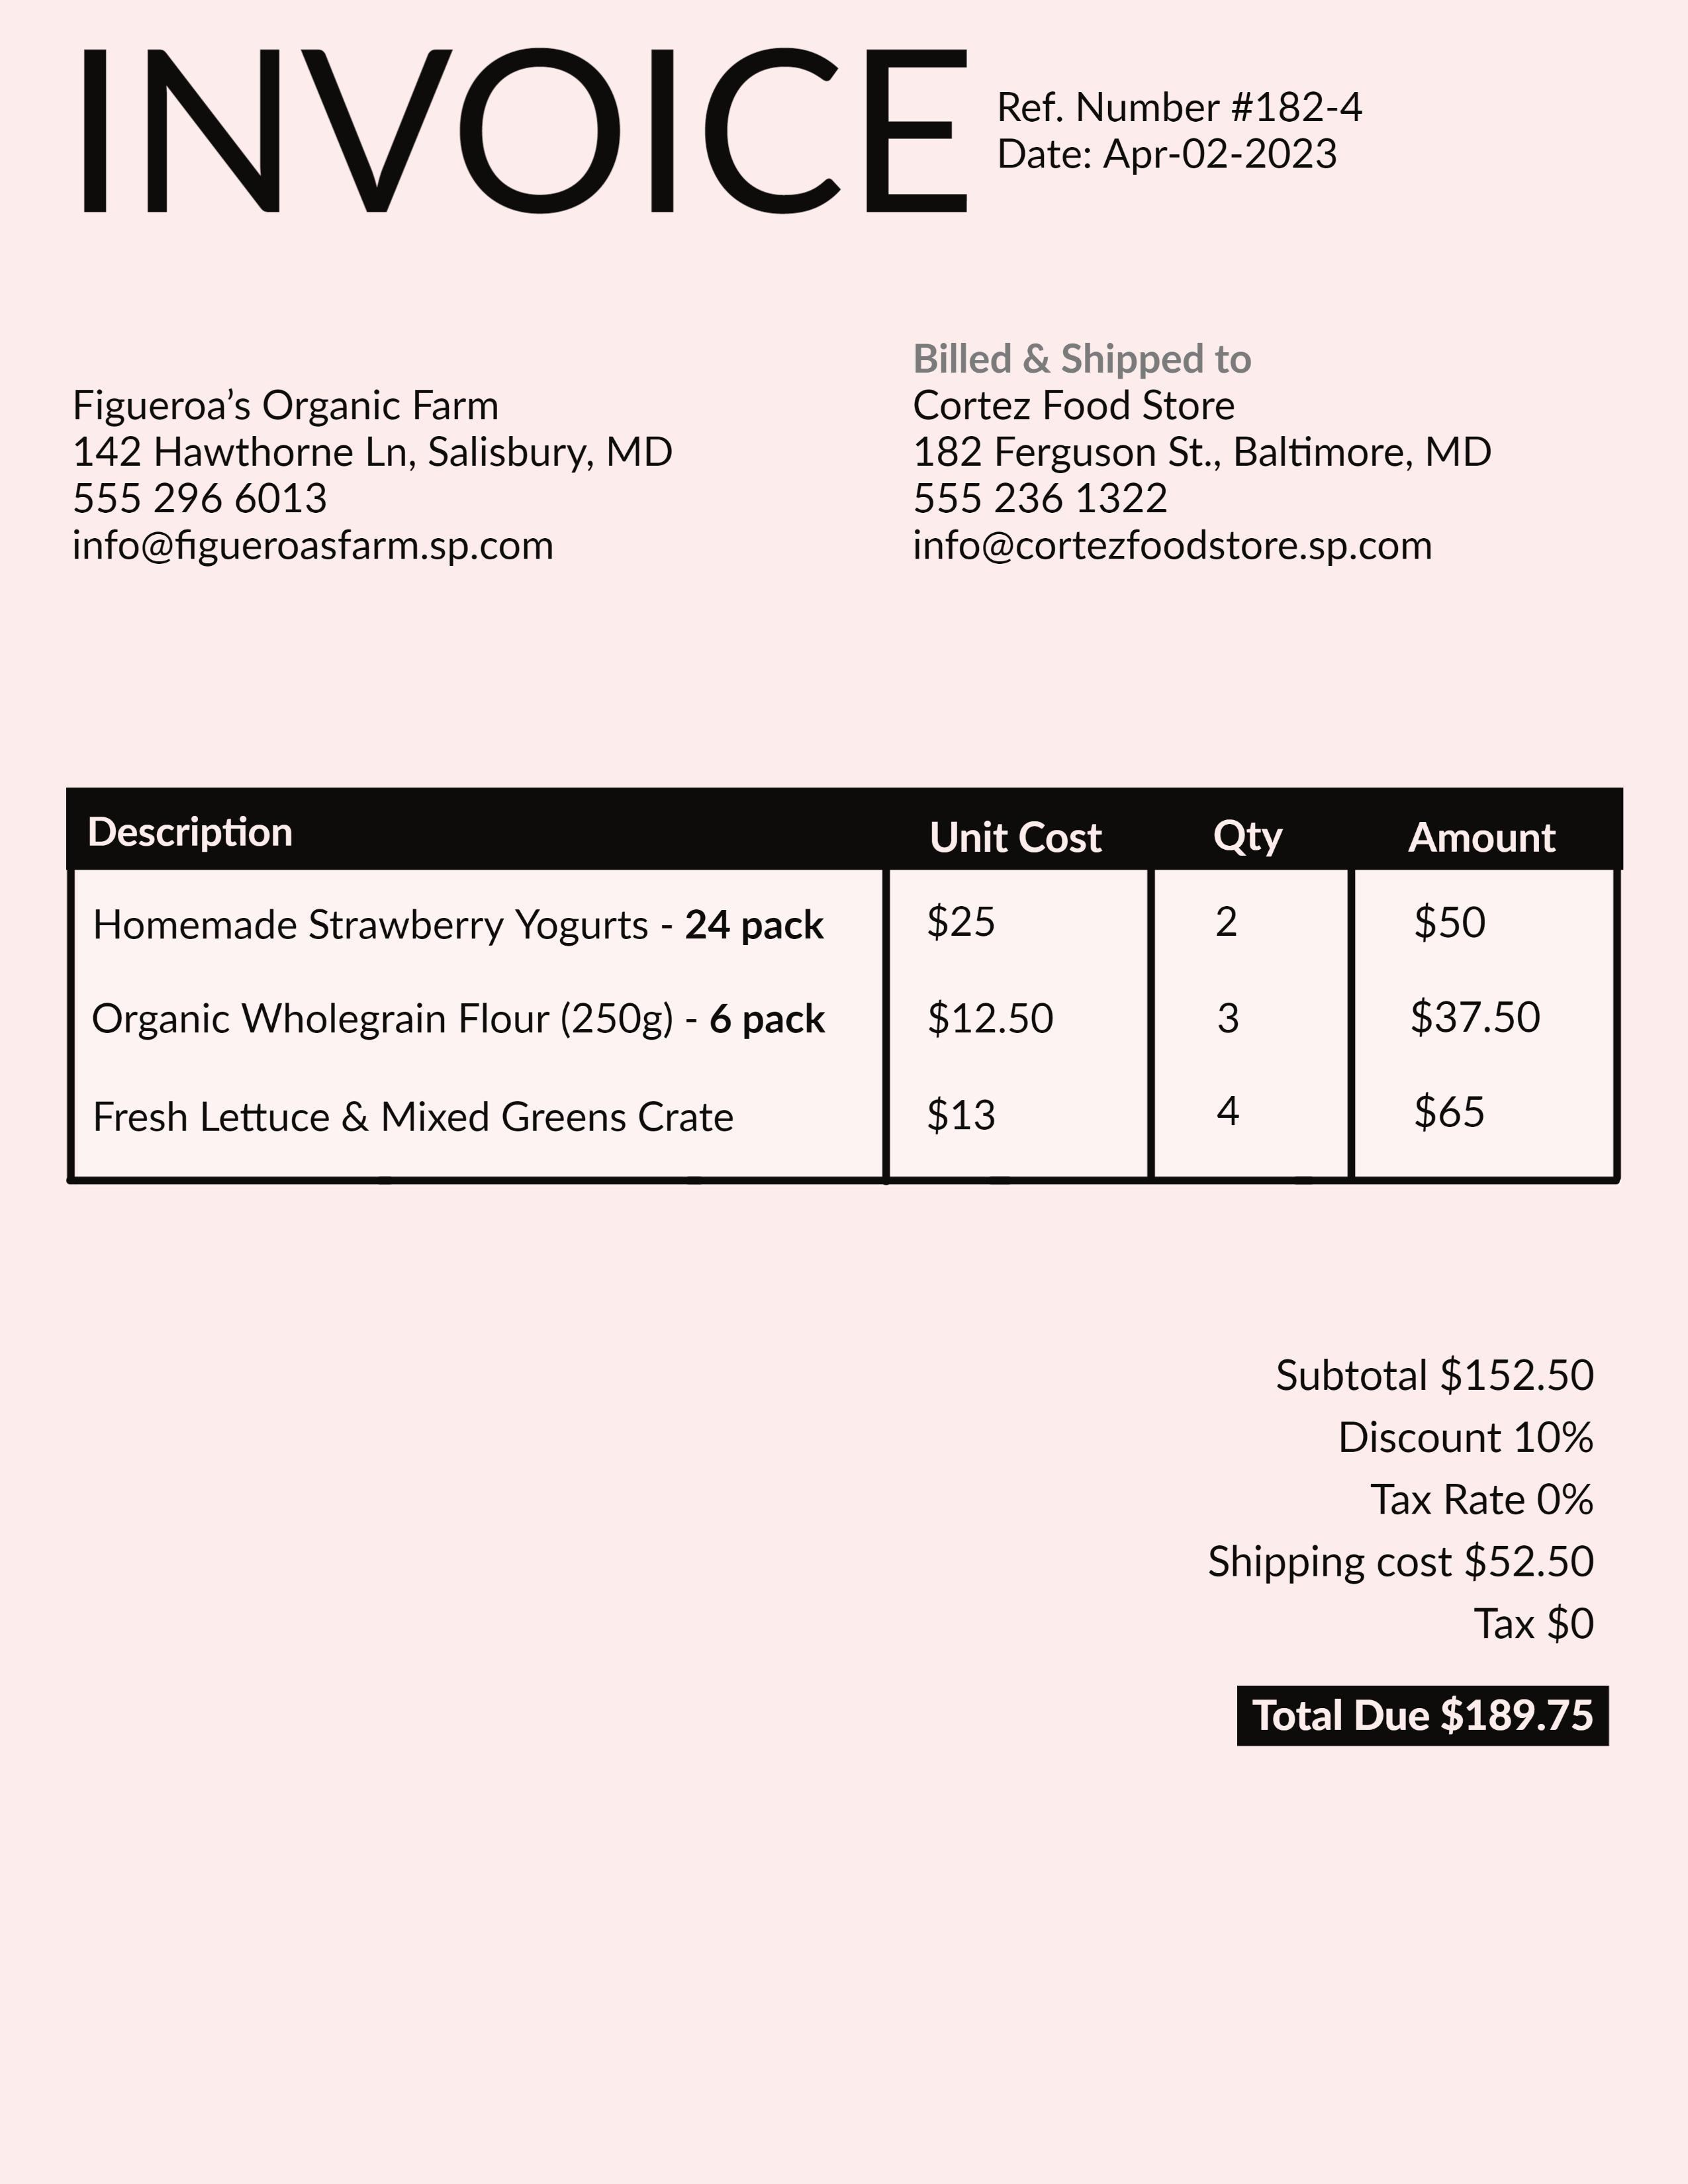ROI: (78, 798, 1621, 1182), (1199, 1328, 1622, 1760), (43, 363, 692, 603), (901, 331, 1511, 583), (975, 71, 1401, 188)
